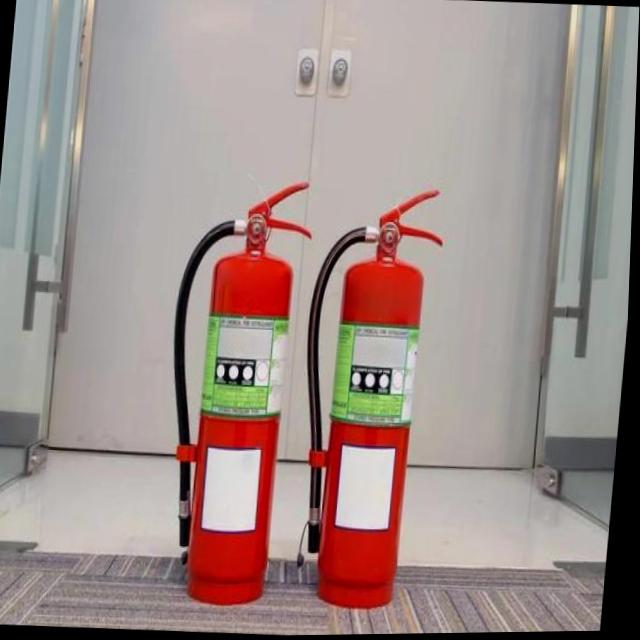FireExtinguisher: (151, 169, 320, 616), (283, 179, 453, 615)
